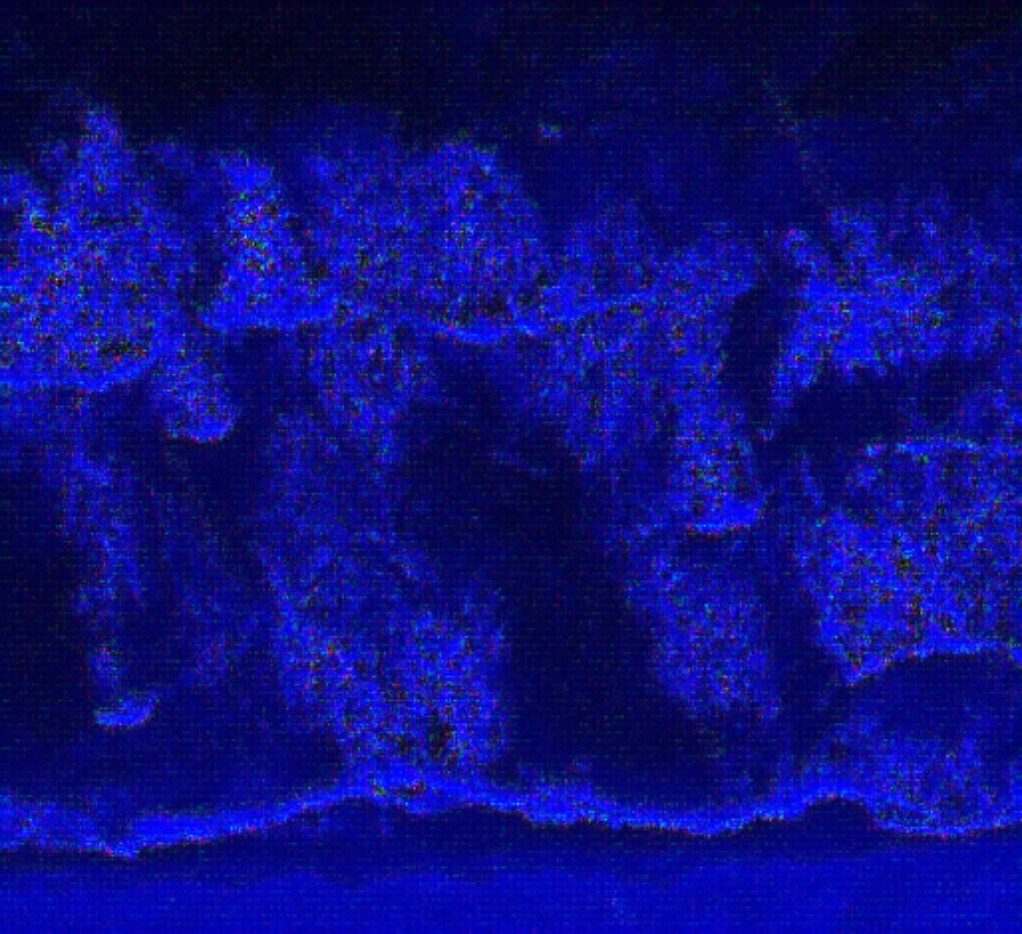rip_current: (320, 116, 712, 791)
